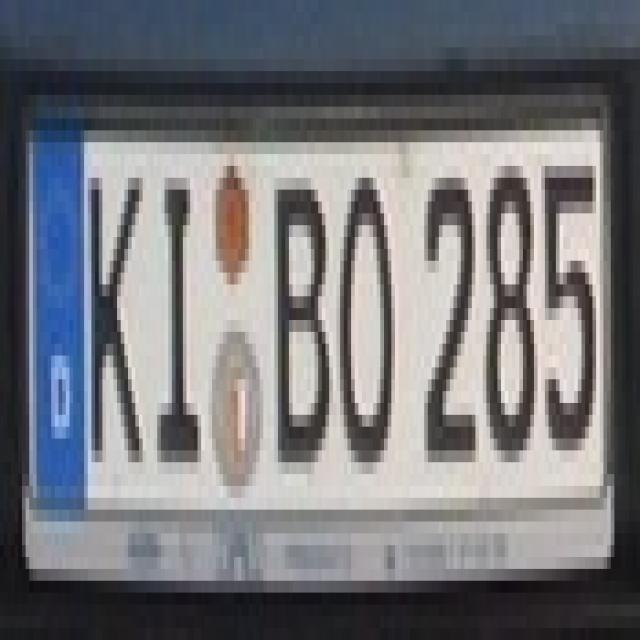licenseplate: (22, 76, 620, 582)
